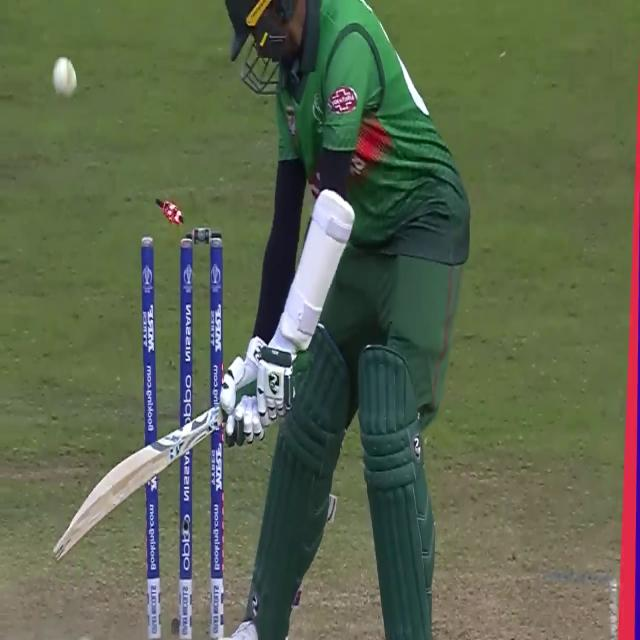ball: (47, 51, 82, 113)
